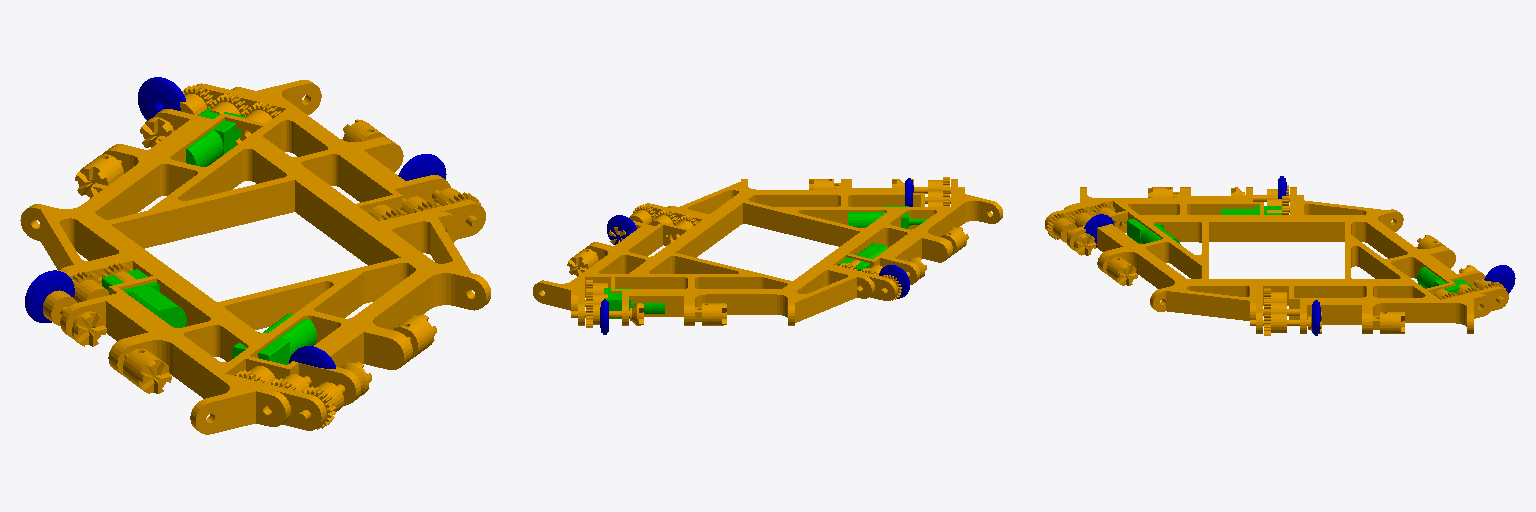
The robot description file, URDF, robot "miura_bot":
<robot name="miura_bot">

  <!-- Materials -->
  <material name="blue">
    <color rgba = "0 0 0.8 1"/>
  </material>
  <material name="red">
    <color rgba = "0.8 0.0 0 1"/>
  </material>
  <material name="green">
    <color rgba = "0.0 0.8 0 1"/>
  </material>
  <material name="purple">
    <color rgba = "0.4 0.1 0.8 1"/>
  </material>

  <!-- base_link -->
  <link name="base_link">
    <visual>
      <origin rpy="0.0 0 0" xyz="0 0 0"/>
      <geometry>
        <mesh filename="mori-design-2.stl" scale="1.00 1.00 1.00"/>
      </geometry>
    </visual>
    <collision>
      <origin rpy="0.0 0 0" xyz="0 0 0"/>
      <geometry>
        <mesh filename="mori-design-2.stl" scale="1.00 1.00 1.00"/>
      </geometry>
    </collision>
  </link>

  <!-- wheel1 -->
  <link name="wheel1">
    <visual>
      <origin rpy="0.0 0 0" xyz="-8 0 -8"/>
      <geometry>
        <mesh filename="wheel.stl" scale="1.00 1.00 1.00"/>
      </geometry>
      <material name="blue"/>
    </visual>
    <collision>
      <origin rpy="0.0 0 0" xyz="-8 0 -8"/>
      <geometry>
        <mesh filename="wheel.stl" scale="1.00 1.00 1.00"/>
      </geometry>
    </collision>
  </link>

  <joint name="joint1" type="continuous">
    <parent link="base_link"/>
    <child link="wheel1"/>
    <axis xyz="0 1 0"/>
    <origin rpy="0 0 0" xyz="5 103 8"/>
  </joint>

  <!-- wheel2 -->
  <link name="wheel2">
    <visual>
      <origin rpy="0.0 0 0" xyz="-8 0 -8"/>
      <geometry>
        <mesh filename="wheel.stl" scale="1.00 1.00 1.00"/>
      </geometry>
      <material name="blue"/>
    </visual>
    <collision>
      <origin rpy="0.0 0 0" xyz="-8 0 -8"/>
      <geometry>
        <mesh filename="wheel.stl" scale="1.00 1.00 1.00"/>
      </geometry>
    </collision>
  </link>

  <joint name="joint2" type="continuous">
    <parent link="base_link"/>
    <child link="wheel2"/>
    <axis xyz="0 1 0"/>
    <origin rpy="0 0 0" xyz="135 118 8"/>
  </joint>

  <!-- wheel3 -->
  <link name="wheel3">
    <visual>
      <origin rpy="0.0 0 0" xyz="-8 0 -8"/>
      <geometry>
        <mesh filename="wheel.stl" scale="1.00 1.00 1.00"/>
      </geometry>
      <material name="blue"/>
    </visual>
    <collision>
      <origin rpy="0.0 0 0" xyz="-8 0 -8"/>
      <geometry>
        <mesh filename="wheel.stl" scale="1.00 1.00 1.00"/>
      </geometry>
    </collision>
  </link>

  <joint name="joint3" type="continuous">
    <parent link="base_link"/>
    <child link="wheel3"/>
    <axis xyz="0 1 0"/>
    <origin rpy="0 0 2.0944" xyz="46 25 8"/>
  </joint>

  <!-- wheel4 -->
  <link name="wheel4">
    <visual>
      <origin rpy="0.0 0 0" xyz="-8 0 -8"/>
      <geometry>
        <mesh filename="wheel.stl" scale="1.00 1.00 1.00"/>
      </geometry>
      <material name="blue"/>
    </visual>
    <collision>
      <origin rpy="0.0 0 0" xyz="-8 0 -8"/>
      <geometry>
        <mesh filename="wheel.stl" scale="1.00 1.00 1.00"/>
      </geometry>
    </collision>
  </link>

  <joint name="joint4" type="continuous">
    <parent link="base_link"/>
    <child link="wheel4"/>
    <axis xyz="0 1 0"/>
    <origin rpy="0 0 2.0944" xyz="99 202 8"/>
  </joint>

  <!-- motor1 -->
  <link name="motor1">
    <visual>
      <origin rpy="0.0 0 0" xyz="0 -6 -5"/>
      <geometry>
        <mesh filename="motor.stl" scale="1.00 1.00 1.00"/>
      </geometry>
      <material name="green"/>
    </visual>
    <collision>
      <origin rpy="0 0 0" xyz="0 -6 -5"/>
      <geometry>
        <mesh filename="motor.stl" scale="1.00 1.00 1.00"/>
      </geometry>
    </collision>
    <inertial>
      <origin xyz="13.6 0 0" rpy="0 0 0.0"/>
      <mass value="0.330"/>
      <inertia ixx="6.710" ixy="0.0" ixz="0.0" 
      iyy="24.3067968176" iyz="0.0" izz="23.0967968176"/>
    </inertial>>
  </link>

  <joint name="jointmotor1" type="fixed">
    <parent link="base_link"/>
    <child link="motor1"/>
    <origin rpy="0 0 4.71238898038" xyz="28.0000052838 115 5"/> 
  </joint>

  <!-- motor2 -->
  <link name="motor2">
    <visual>
      <origin rpy="0.0 0 0" xyz="0 -6 -5"/>
      <geometry>
        <mesh filename="motor_tip.stl" scale="1.00 1.00 1.00"/>
      </geometry>
      <material name="green"/>
    </visual>
    <collision>
      <origin rpy="0 0 0" xyz="0 -6 -5"/>
      <geometry>
        <mesh filename="motor_tip.stl" scale="1.00 1.00 1.00"/>
      </geometry>
    </collision>
    <inertial>
      <origin xyz="13.6 0 0" rpy="0 0 0.0"/>
      <mass value="0"/>
      <inertia ixx="0" ixy="0.0" ixz="0.0" 
      iyy="0" iyz="0.0" izz="0"/>
    </inertial>
  </link>

  <joint name="jointmotor2" type="fixed">
    <parent link="base_link"/>
    <child link="motor2"/>
    <origin rpy="0 0 1.57079632679" xyz="113.9 110 5"/> 
  </joint>

  <!-- motor3 -->
  <link name="motor3">
    <visual>
      <origin rpy="0.0 0 0" xyz="0 -6 -5"/>
      <geometry>
        <mesh filename="motor.stl" scale="1.00 1.00 1.00"/>
      </geometry>
      <material name="green"/>
    </visual>
    <collision>
      <origin rpy="0 0 0" xyz="0 -6 -5"/>
      <geometry>
        <mesh filename="motor.stl" scale="1.00 1.00 1.00"/>
      </geometry>
    </collision>
    <inertial>
      <origin xyz="13.6 0 0" rpy="0 0 0.0"/>
      <mass value="0"/>
      <inertia ixx="0" ixy="0.0" ixz="0.0" 
      iyy="0" iyz="0.0" izz="0"/>
    </inertial>
  </link>

  <joint name="jointmotor3" type="fixed">
    <parent link="base_link"/>
    <child link="motor3"/>
    <origin rpy="0 0 0.523598775598" xyz="25.31 36.5526 5"/> 
  </joint>

  <!-- motor4 -->
  <link name="motor4">
    <visual>
      <origin rpy="0.0 0 0" xyz="0 -6 -5"/>
      <geometry>
        <mesh filename="motor.stl" scale="1.00 1.00 1.00"/>
      </geometry>
      <material name="green"/>
    </visual>
    <collision>
      <origin rpy="0 0 0" xyz="0 -6 -5"/>
      <geometry>
        <mesh filename="motor.stl" scale="1.00 1.00 1.00"/>
      </geometry>
    </collision>
    <inertial>
      <origin xyz="13.6 0 0" rpy="0 0 0.0"/>
      <mass value="0"/>
      <inertia ixx="0" ixy="0.0" ixz="0.0" 
      iyy="0" iyz="0.0" izz="0"/>
    </inertial>
  </link>

  <joint name="jointmotor4" type="fixed">
    <parent link="base_link"/>
    <child link="motor4"/>
    <origin rpy="0 0 3.66519142919" xyz="116.593 188.447 5"/> 
  </joint>

</robot>

--- Facts derived from the render (not from the file) ---
3 views of the same robot in one strip: view 1: azimuth 30°, elevation 25°; view 2: azimuth 150°, elevation 25°; view 3: azimuth 270°, elevation 25° (orthographic).
Robot: miura_bot — 9 links, 8 joints (4 continuous, 4 fixed); root link base_link; default pose: every joint at zero.
Visible links, largest first — view 1: base_link, motor4, motor1, motor3, wheel4, wheel1, wheel2, wheel3; view 2: base_link, motor3, motor4; view 3: base_link, motor3.
Link boxes in pixels (bbox=[...]): base_link: bbox=[20, 80, 490, 434]; motor4: bbox=[186, 108, 244, 166]; motor1: bbox=[102, 269, 186, 327]; motor3: bbox=[232, 313, 316, 364]; wheel4: bbox=[138, 77, 185, 120]; wheel1: bbox=[25, 270, 74, 322]; wheel2: bbox=[398, 154, 446, 180]; wheel3: bbox=[289, 346, 335, 368]; base_link: bbox=[533, 177, 1002, 327]; motor3: bbox=[848, 206, 926, 228]; motor4: bbox=[585, 288, 664, 318]; base_link: bbox=[1045, 185, 1508, 335]; motor3: bbox=[1127, 219, 1180, 244].
Size in the robot's own frame: 146 by 208 by 15.99 metres.
8 mesh visuals loaded from 4 distinct referenced files (3 binary STL); not drawn: 1 (reference not matched to a file when rendering).
